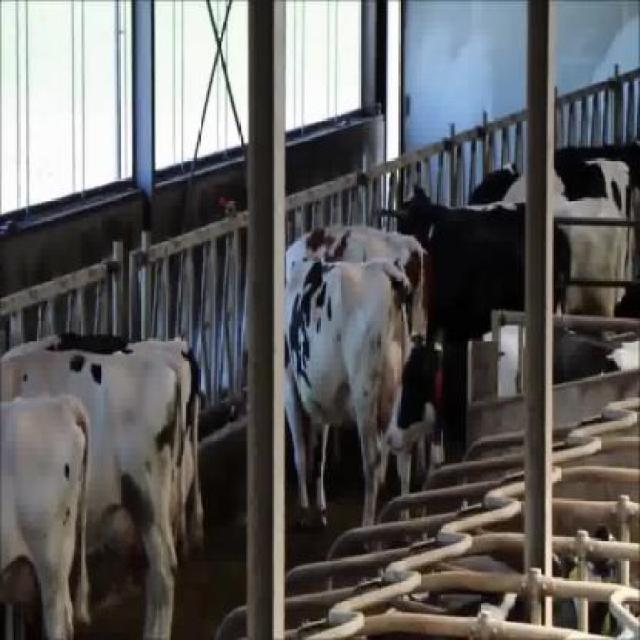Cow: (2, 348, 185, 638), (283, 251, 415, 554), (386, 324, 625, 478), (397, 180, 574, 334), (1, 392, 94, 638)
